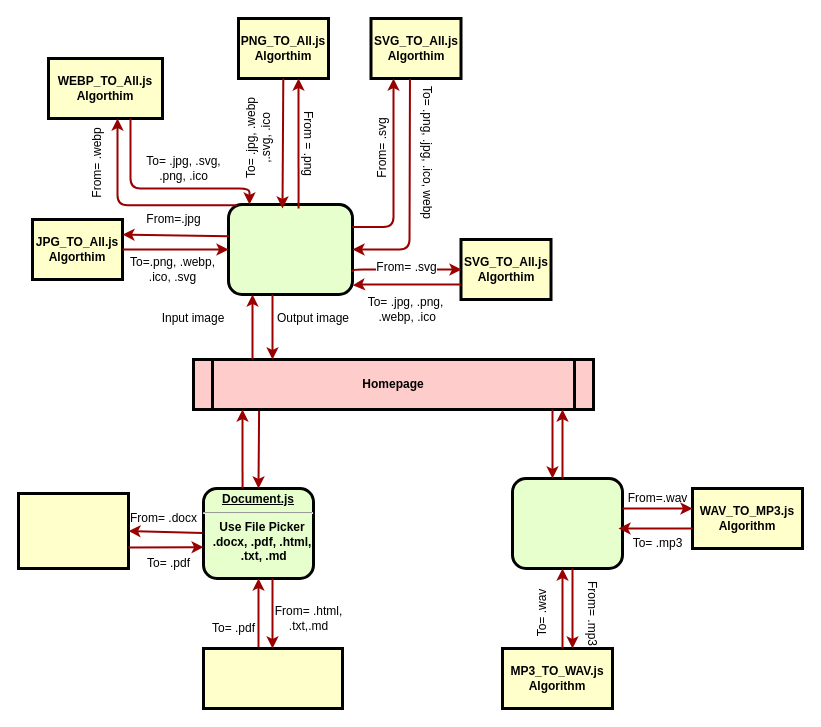
Image size: 821x727. Some labels were removed from this diagram. The shapes that lost their labels are listed below. From the top down, each one's box as (x1, y1, x2, y2) in pixels, then its label:
(226, 202, 354, 296): Image.js Use File Picker, .png , .jpg , .webp .svg , .gif
(16, 492, 130, 570): DOCX_TO_PDF.js Algorthim
(510, 476, 624, 570): Music.js Use File Picker .mp3, .wav
(202, 646, 344, 710): TXT/MD HTML_TO_PDF.js Algorthim
